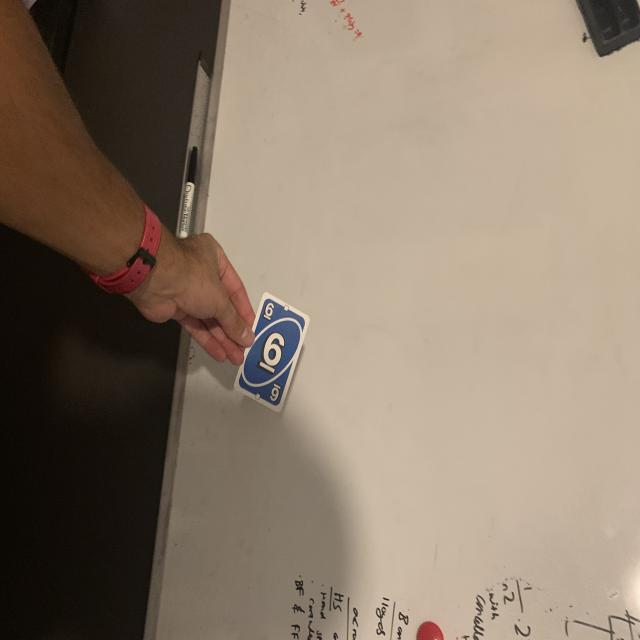lblue-6: (261, 301, 277, 322)
